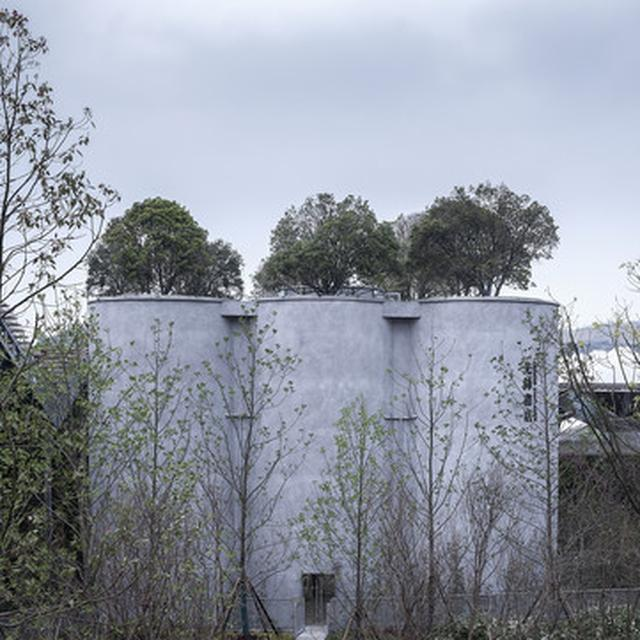building: (84, 272, 564, 633)
